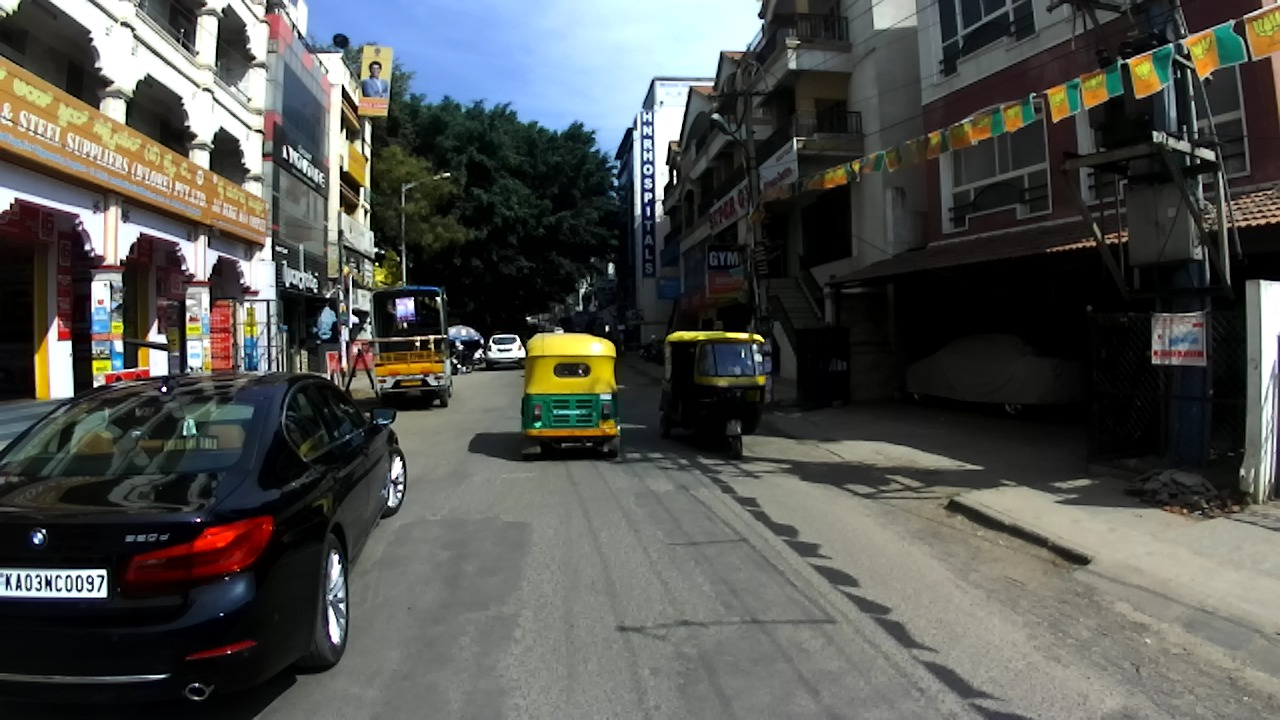autorickshaw: (517, 330, 627, 461), (658, 331, 766, 460)
car: (1, 372, 409, 709), (905, 331, 1081, 417), (485, 334, 527, 372)
motorcycle: (642, 339, 664, 364), (452, 353, 475, 375), (638, 334, 657, 358)
rider: (453, 344, 466, 371)
truck: (369, 286, 454, 407)
vehicle fallback: (536, 321, 564, 333), (525, 317, 538, 340), (472, 348, 485, 366)
